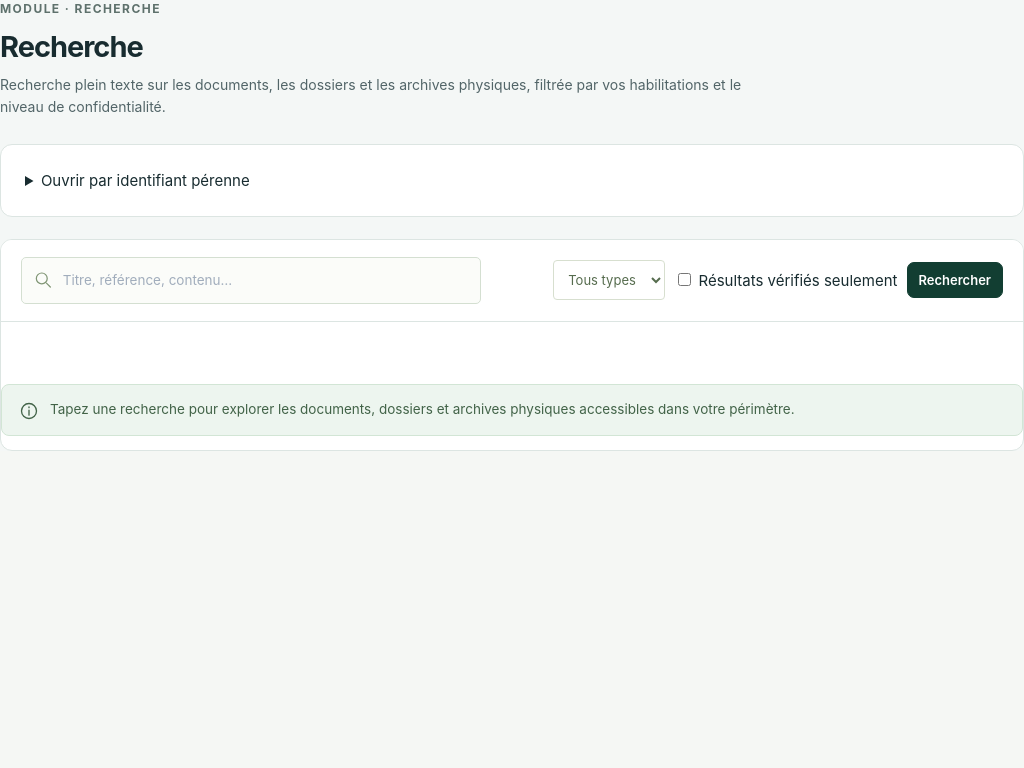
l’aperçu d’un résultat non vérifié lit les pages non validées
In the field named "Rechercher": (265,280) [63,258,468,303], type "ALPHA"
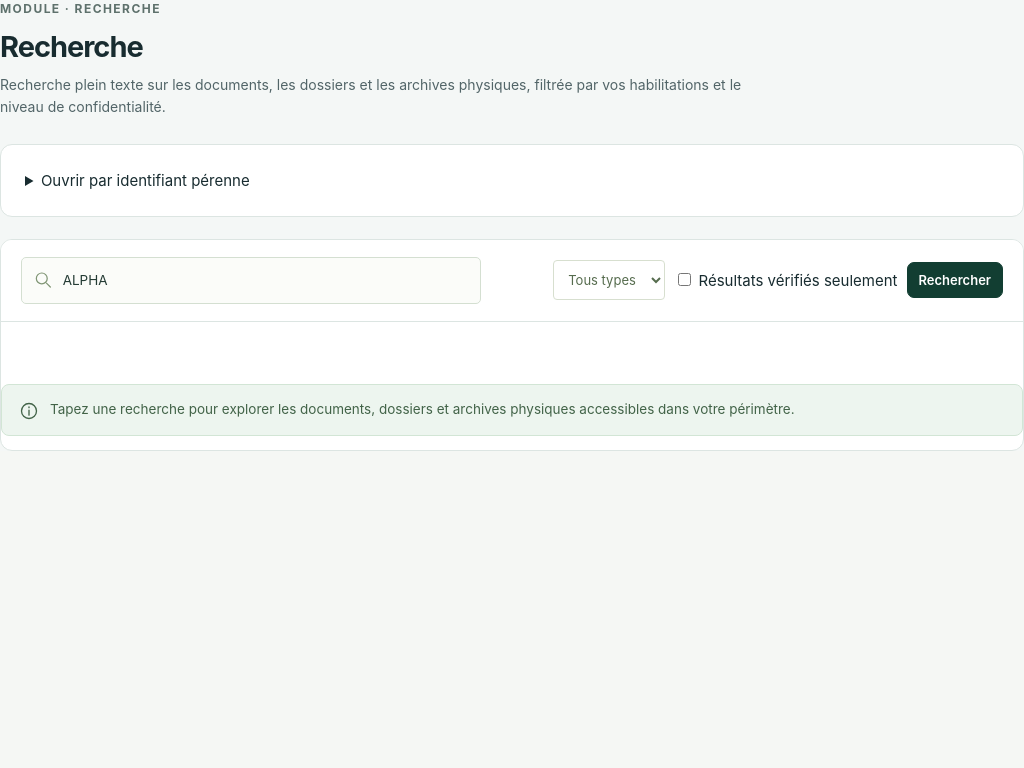
Click the button "Rechercher": (955,280) [906,262,1003,298]
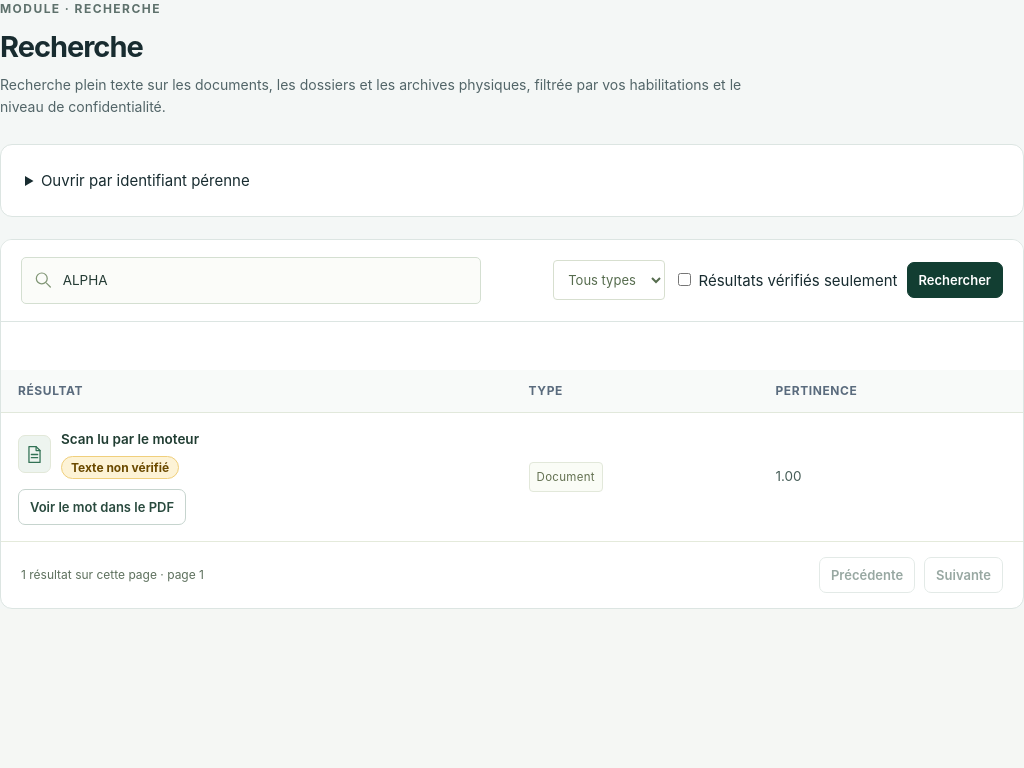
Click the button "Voir le mot dans le PDF": (102,507) [18,489,186,525]
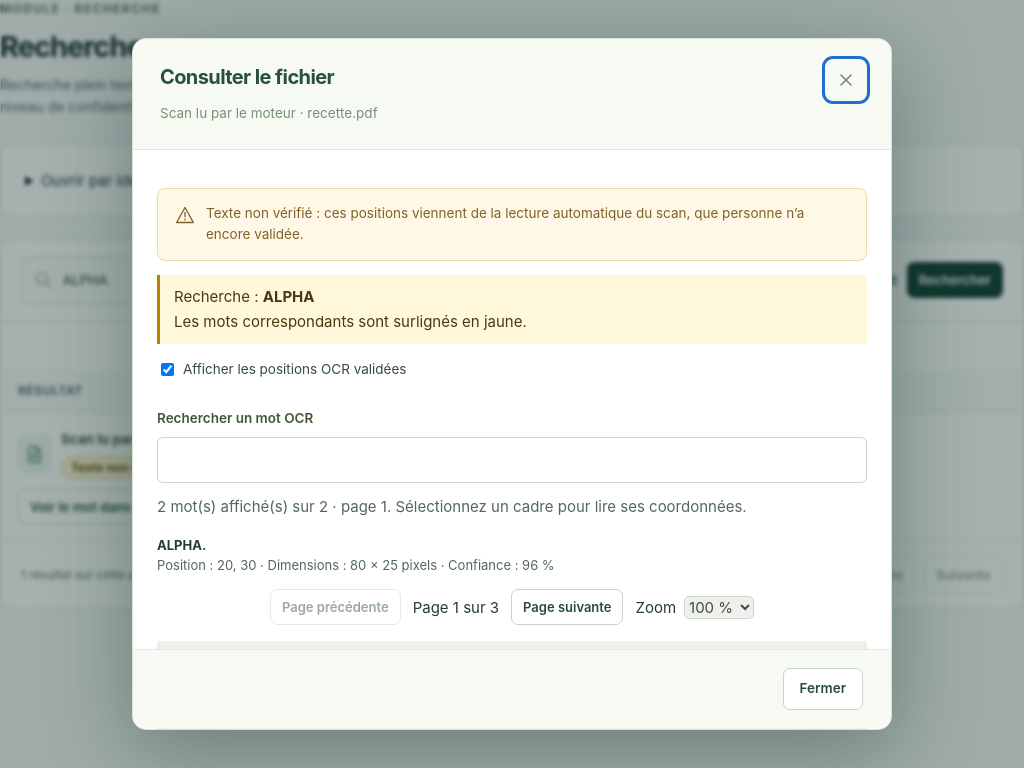
Expected: the text "Texte non vérifié : ces positions" is shown, [206,205,804,242]
